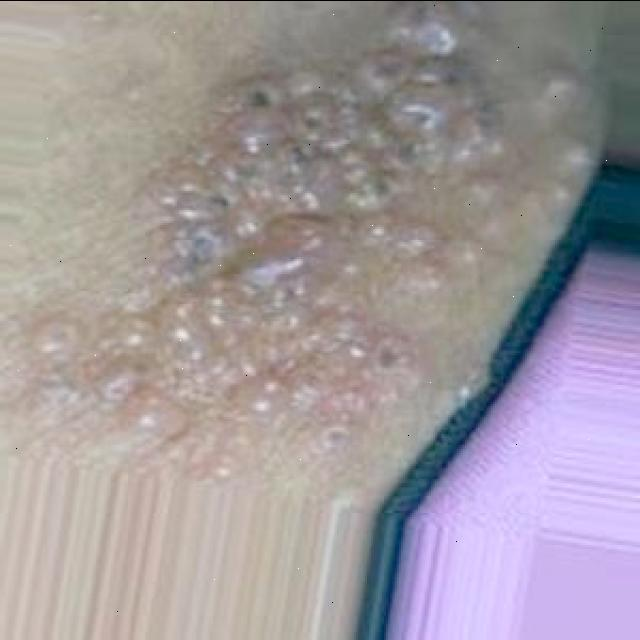Shingles: (34, 18, 591, 455)
